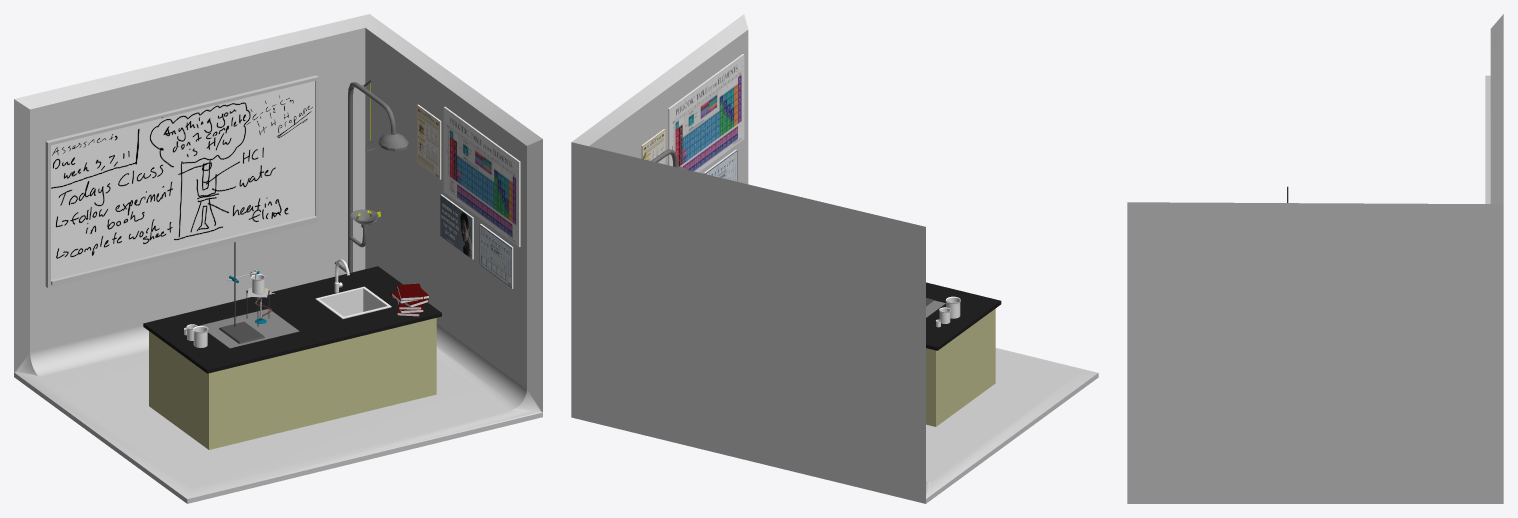
3 views of the same model, side by side, from view 1: azimuth 30°, elevation 25°; view 2: azimuth 150°, elevation 25°; view 3: azimuth 270°, elevation 25° (orthographic). The views are drawn at different scales.
Visible parts, largest first — view 1: Room1, WhiteBoard1, Desk, Poster1, ChemicalShower, HeatMat, Poster4, Poster2, Poster3, RetortStand; view 2: Room1, Desk, Poster1, Poster4; view 3: Room1, WhiteBoard1.
Boxes of the visible parts, bbox=[...] form: Room1: bbox=[14, 14, 542, 503]; WhiteBoard1: bbox=[45, 75, 318, 288]; Desk: bbox=[143, 266, 441, 449]; Poster1: bbox=[443, 106, 520, 246]; ChemicalShower: bbox=[334, 80, 408, 272]; HeatMat: bbox=[199, 309, 299, 348]; Poster4: bbox=[479, 224, 513, 288]; Poster2: bbox=[417, 104, 441, 179]; Poster3: bbox=[440, 194, 473, 259]; RetortStand: bbox=[219, 242, 264, 343]; Room1: bbox=[571, 14, 1098, 503]; Desk: bbox=[926, 282, 1001, 426]; Poster1: bbox=[668, 54, 744, 172]; Poster4: bbox=[703, 149, 737, 181]; Room1: bbox=[1127, 14, 1503, 503]; WhiteBoard1: bbox=[1485, 75, 1490, 203].
Bounding box in the file's own units: 378 × 283 × 319.
